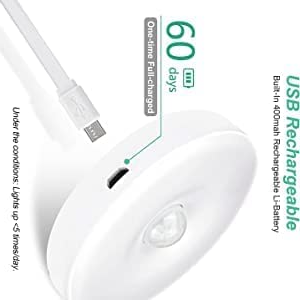Rechargeable: (283, 117, 300, 231)
USB: (286, 76, 300, 111)
